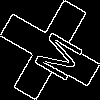M: (25, 25, 85, 84)
